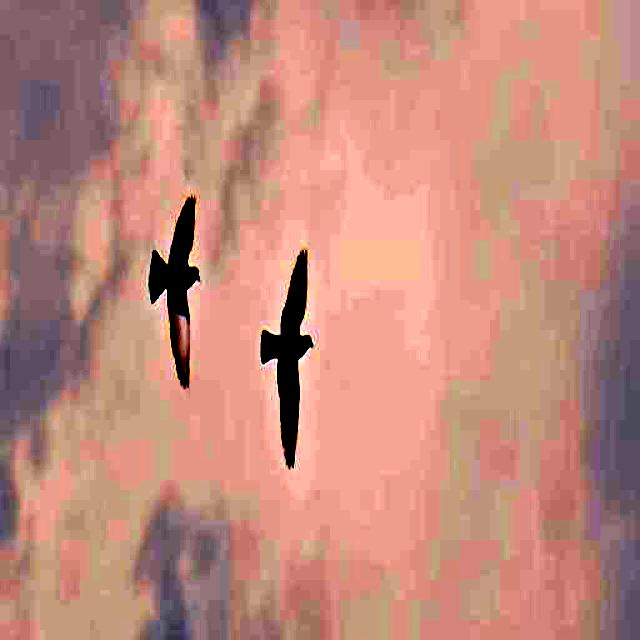airplane: (140, 181, 216, 416), (254, 236, 320, 496)
